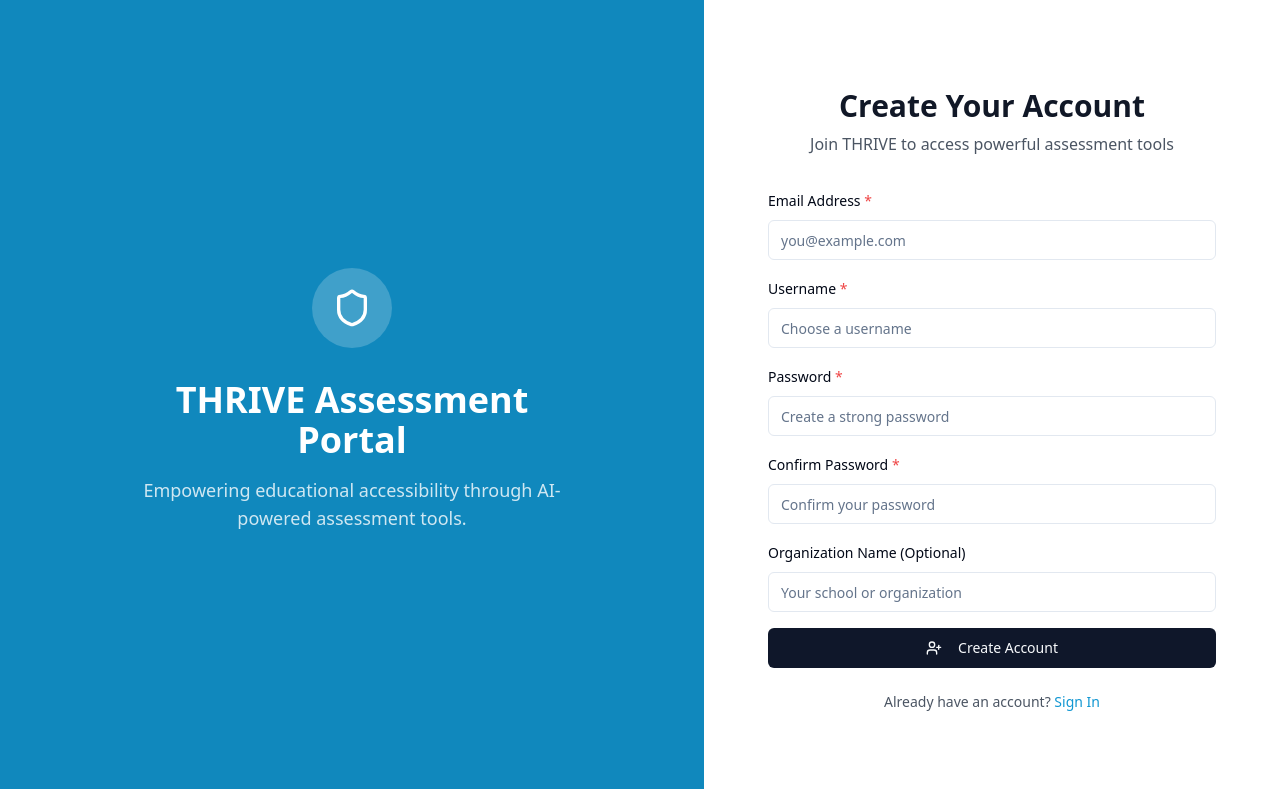
Test: Registration Components › RegistrationPage › shows password strength indicator when password is entered
The image size is (1280, 789).
Type "Test123!" into the password field with test id "input-password" at (992, 416), box 768,396 -> 1216,436
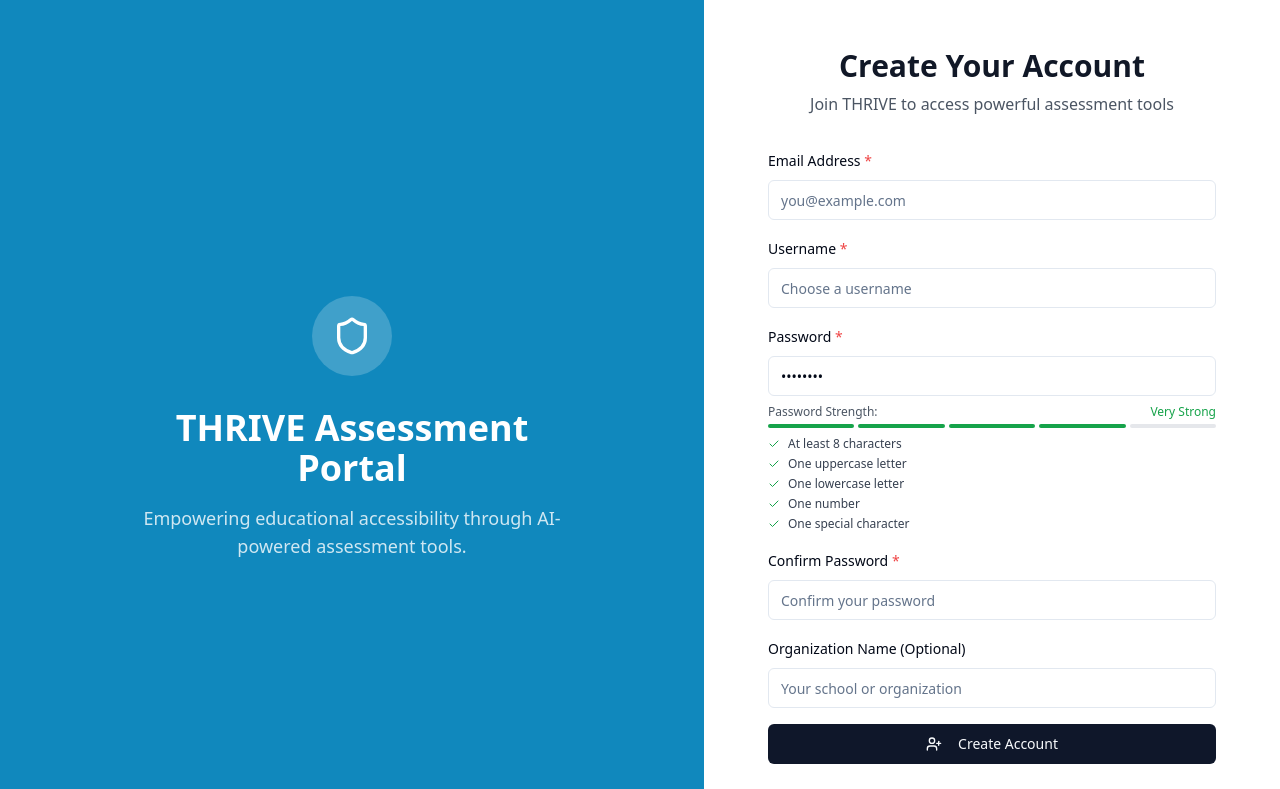
Check: the text "Very Strong" is shown, box 1150,404 -> 1216,420
